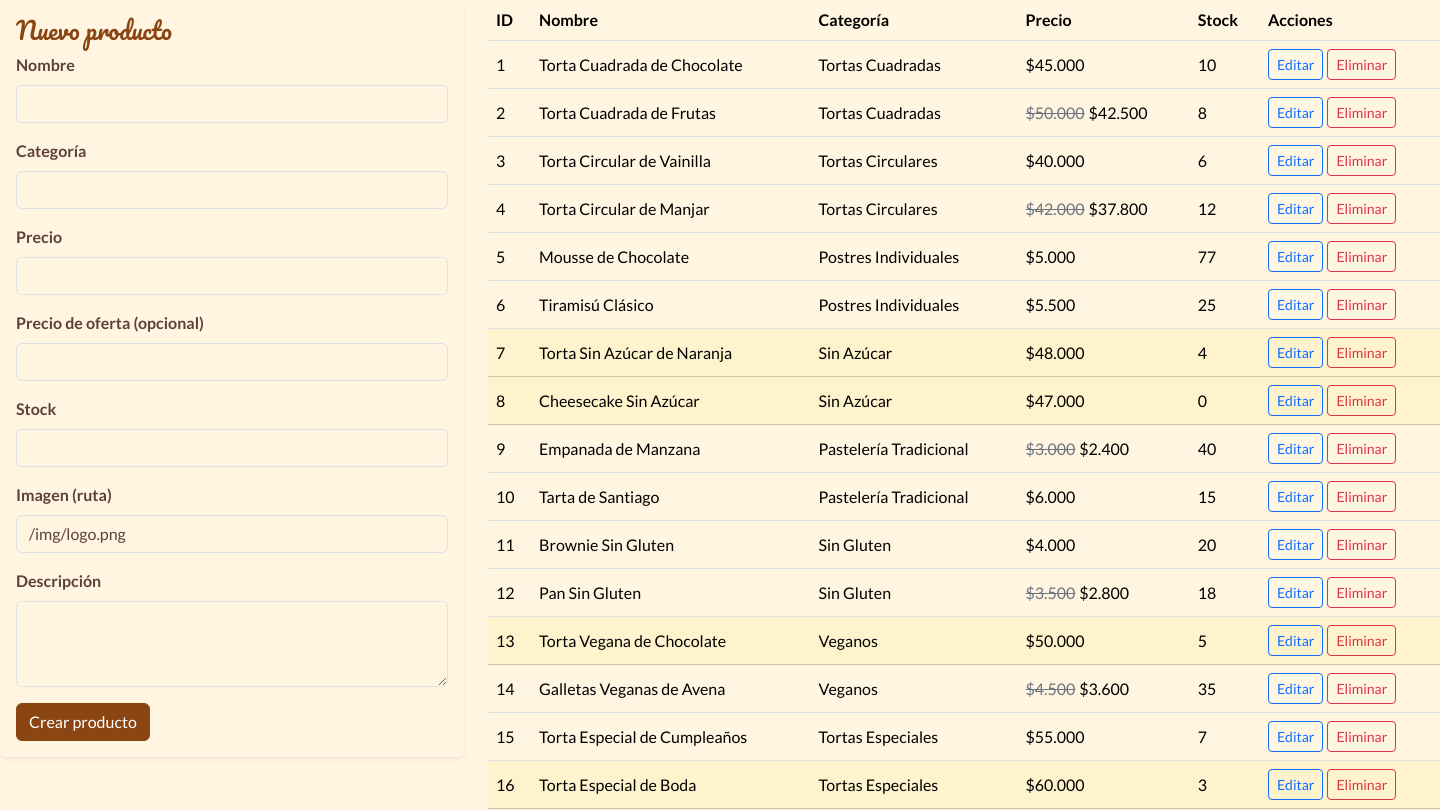
<AdminProductos /> (CRUD) › ELIMINAR: quita el producto
Click the button "Eliminar" in the row of "Mousse de Chocolate" at {"x": 1362, "y": 256}, box [1328,241,1396,272]
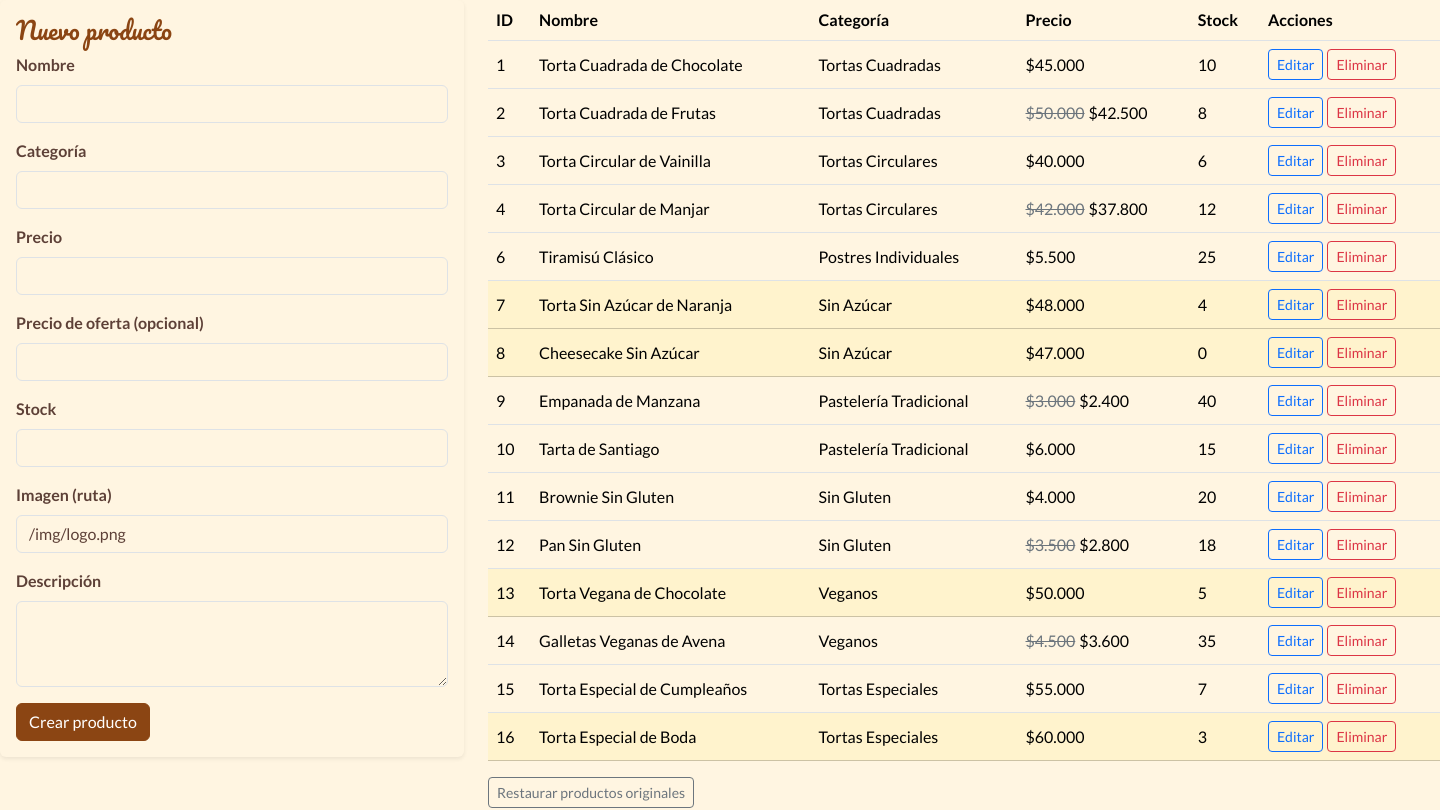
Expected: the text "Mousse de Chocolate" is gone
